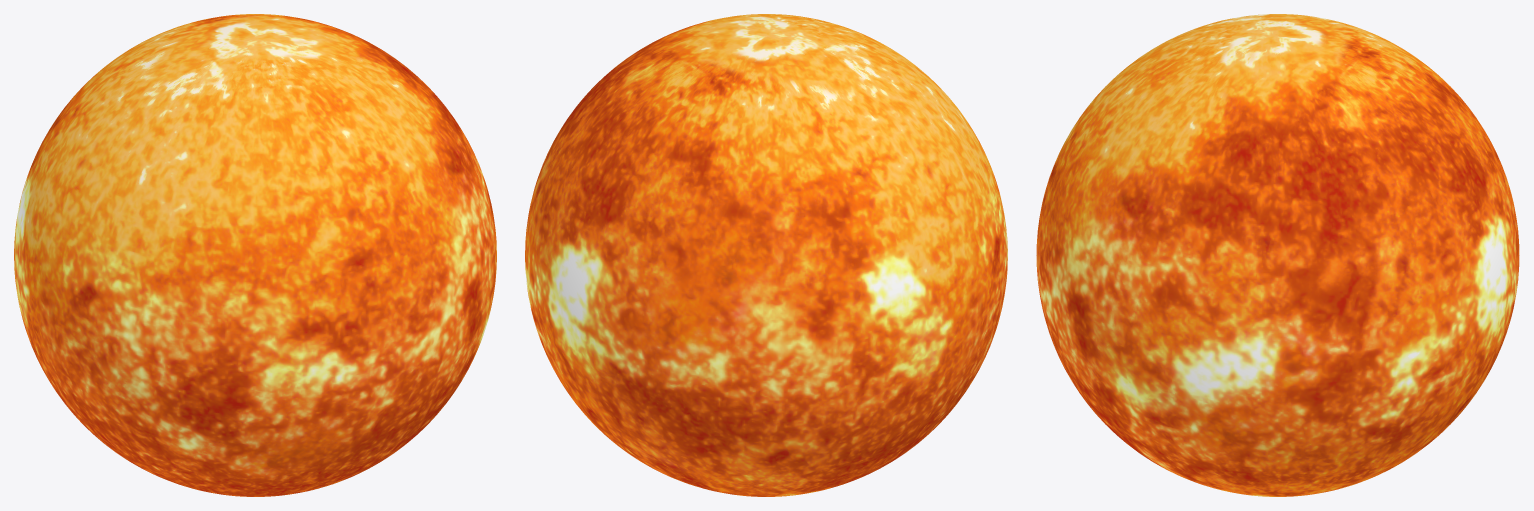
Rendered from sun.glb.
3 renders of one model, left to right at view 1: azimuth 30°, elevation 25°; view 2: azimuth 150°, elevation 25°; view 3: azimuth 270°, elevation 25°, orthographic.
Parts seen in each view (by area): view 1: Sun; view 2: Sun; view 3: Sun.
Part boxes in pixels (x1=…): Sun: x1=14, y1=14, x2=496, y2=496; Sun: x1=525, y1=14, x2=1007, y2=496; Sun: x1=1036, y1=14, x2=1519, y2=496.
Size of the model in its own units: 2.15 by 2.15 by 2.15.
Materials: 1 (1 with a texture image).
